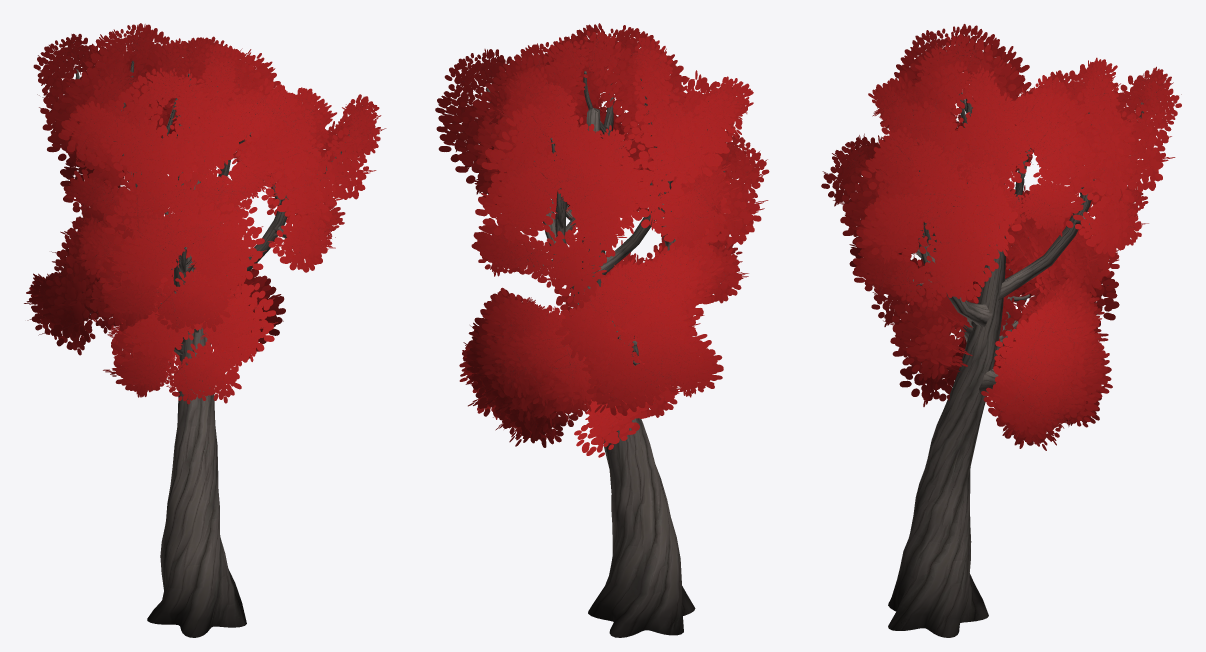
File: twisted3.glb
3 renders of one model, left to right at view 1: azimuth 30°, elevation 25°; view 2: azimuth 150°, elevation 25°; view 3: azimuth 270°, elevation 25°, orthographic. The views are drawn at different scales.
Parts seen in each view (by area): view 1: TwistedTree_5; view 2: TwistedTree_5; view 3: TwistedTree_5.
Part boxes in pixels (x1,y1,x2,y2): TwistedTree_5: (24, 23, 386, 637); TwistedTree_5: (435, 23, 769, 637); TwistedTree_5: (821, 24, 1181, 637).
Size of the model in its own units: 4.75 by 7.83 by 4.69.
2 materials, 2 textured.
